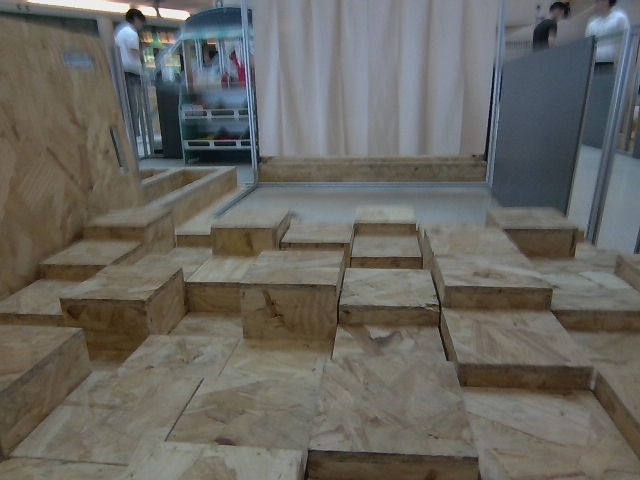curtain: (256, 0, 496, 166)
